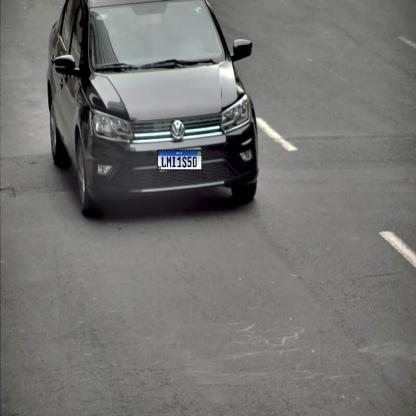PlacaM: (157, 150, 202, 171)
